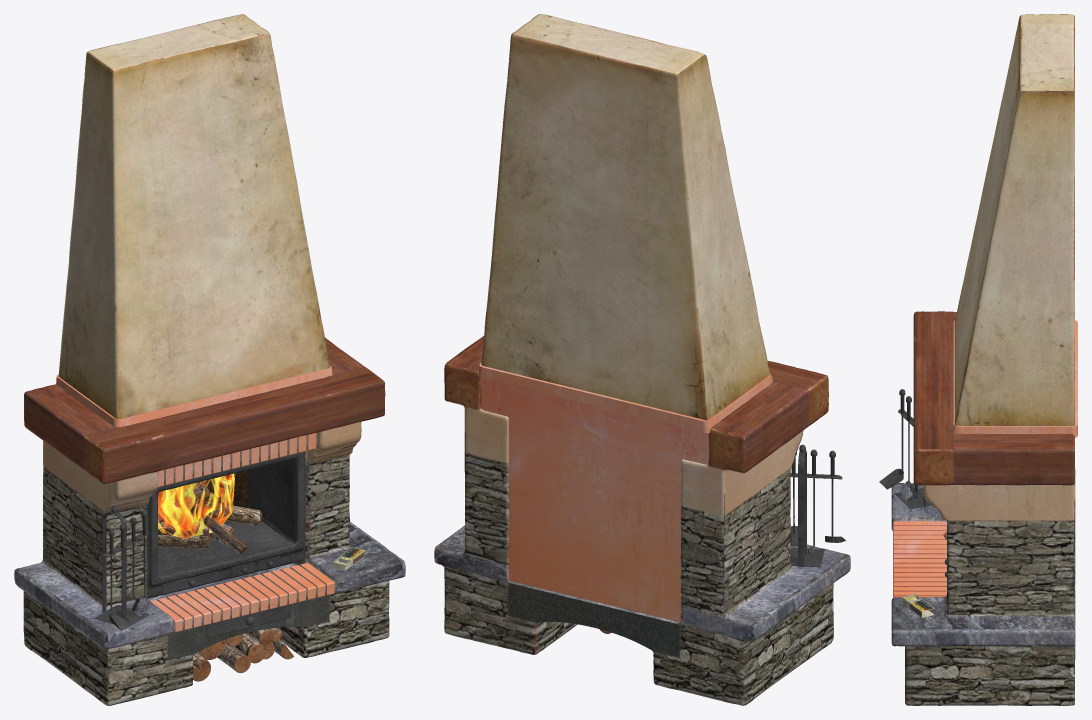
The model's file is obj_caminetto_7faeeb.glb.
The picture shows the model from 3 angles, left to right: view 1: azimuth 30°, elevation 25°; view 2: azimuth 150°, elevation 25°; view 3: azimuth 270°, elevation 25°; orthographic projection. The views are drawn at different scales.
Parts seen in each view (by area): view 1: obj_caminetto_7faeeb; view 2: obj_caminetto_7faeeb; view 3: obj_caminetto_7faeeb.
Part boxes in pixels (box(x1,y1,x2,y2)): obj_caminetto_7faeeb: box(14, 14, 405, 705); obj_caminetto_7faeeb: box(434, 14, 850, 705); obj_caminetto_7faeeb: box(879, 14, 1077, 705).
Bounding box in the file's own units: 0.5988 × 1.1 × 0.3385.
Materials: 13 (10 with a texture image).
